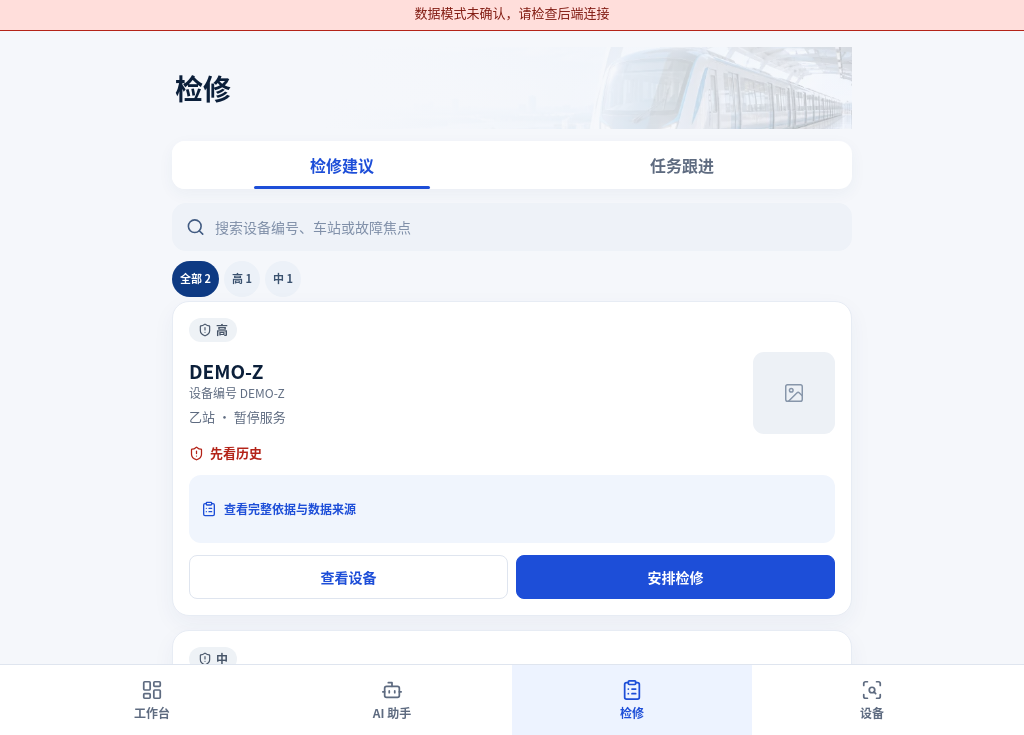
keeps the arrange form and user inputs when server rejects creation
Click the button "安排检修": [676, 577] box [516,555,835,599]
(page scrolled)
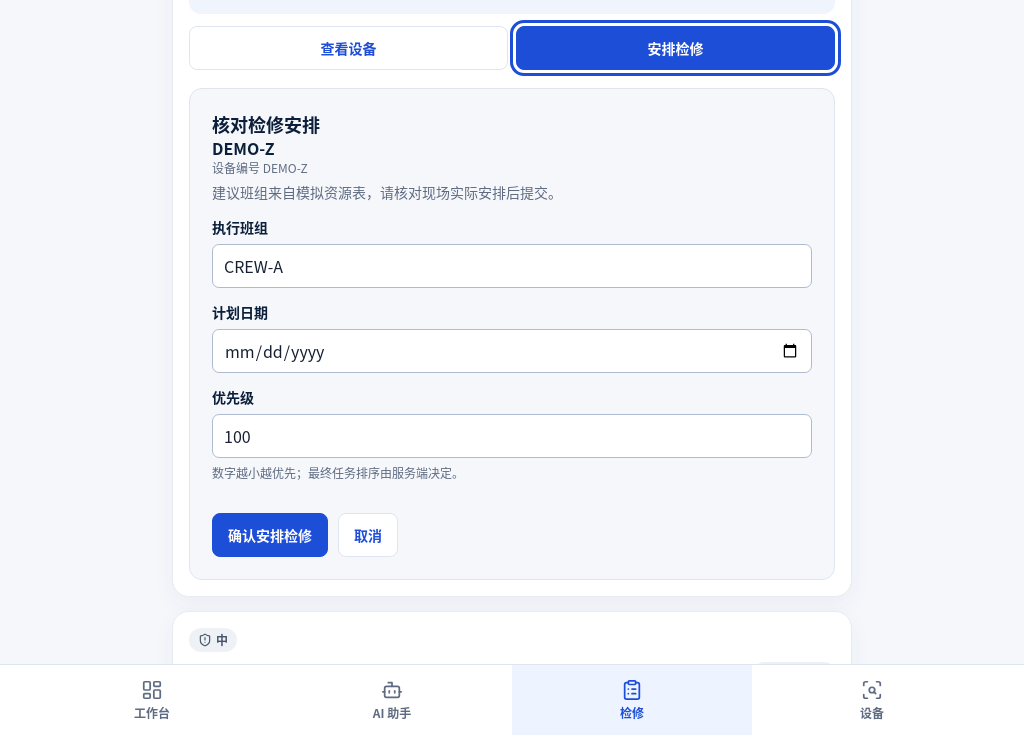
In the date field labelled "计划日期": [512, 351] box [212,329,812,373], type "2026-11-03"
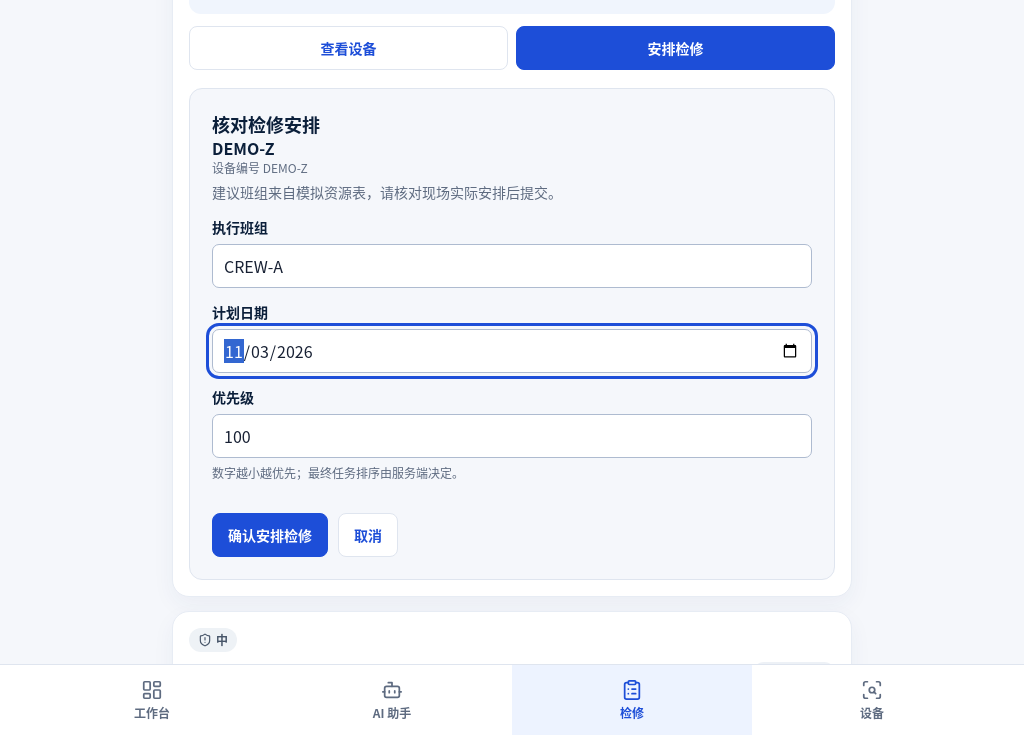
Click the button "确认安排检修": [270, 535] box [212,513,328,557]
(page scrolled)
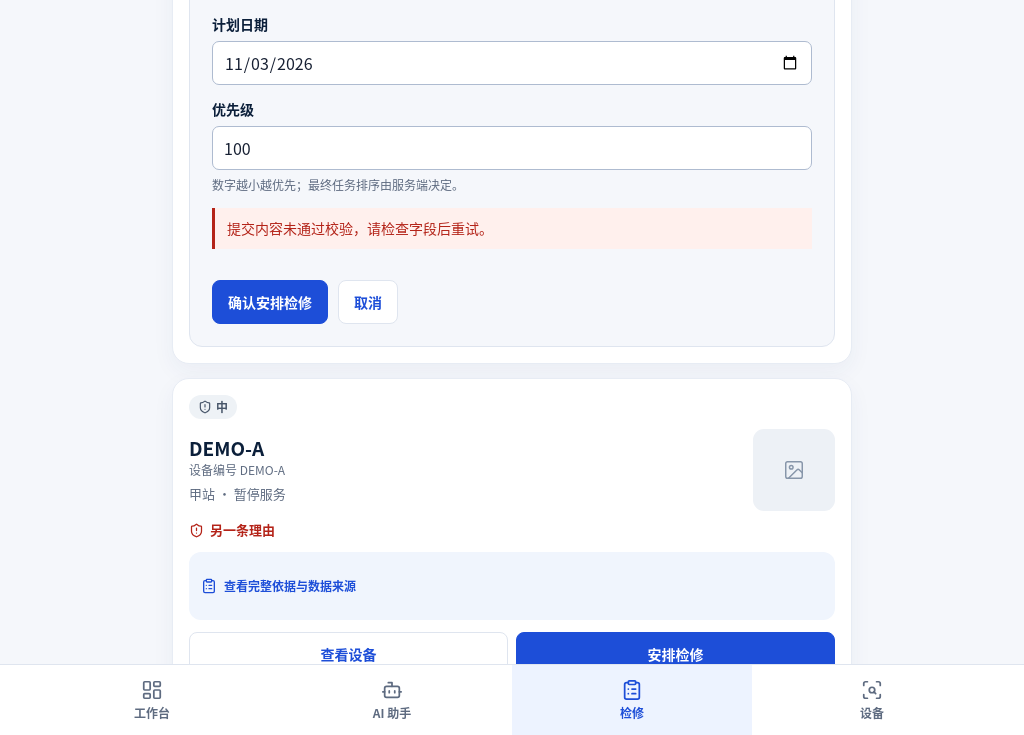
Expected: the text with test id "location" reads "/maintenance?view=suggestions", [0,711,243,734]
Expected: the text "提交内容未通过校验，请检查字段后重试。" is shown, [212,208,812,249]
